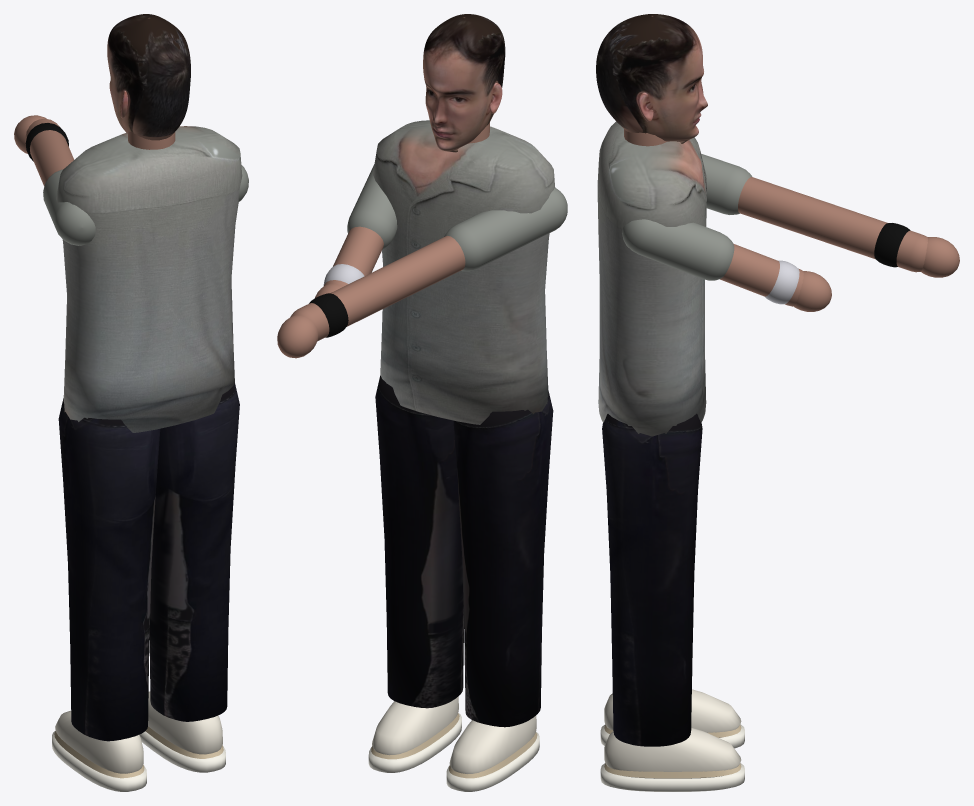
The model's file is matteo.glb.
3 renders of one model, left to right at view 1: azimuth 30°, elevation 25°; view 2: azimuth 150°, elevation 25°; view 3: azimuth 270°, elevation 25°, orthographic.
Visible parts, largest first — view 1: Busto, GambaSX, GambaDX, Testa, Braccia; view 2: Busto, GambaSX, GambaDX, Braccia, Testa; view 3: GambaDX, Busto, Braccia, Testa, GambaSX.
Part boxes in pixels (x1,y1,x2,y2): Busto: [56, 126, 242, 432]; GambaSX: [52, 398, 160, 791]; GambaDX: [139, 382, 239, 772]; Testa: [107, 14, 190, 149]; Braccia: [14, 115, 248, 245]; Busto: [373, 120, 555, 424]; GambaSX: [446, 390, 553, 791]; GambaDX: [368, 375, 463, 772]; Braccia: [277, 164, 567, 358]; Testa: [423, 14, 505, 152]; GambaDX: [600, 413, 744, 791]; Busto: [597, 121, 706, 436]; Braccia: [622, 154, 959, 311]; Testa: [596, 14, 707, 146]; GambaSX: [600, 689, 744, 748].
Bounding box in the file's own units: 0.4797 × 1.8 × 0.7965.
13 materials, 6 textured.
